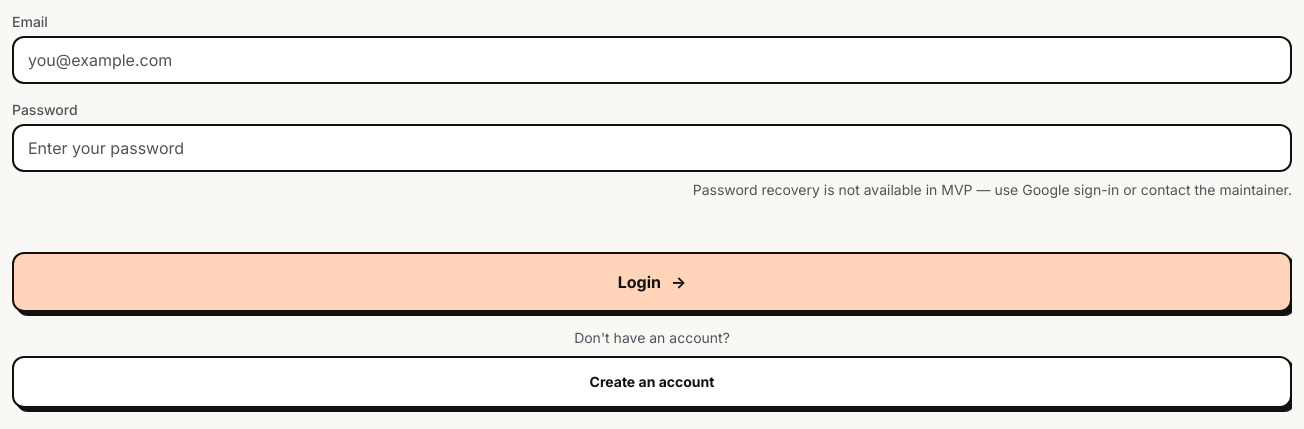
it: LoginForm › should show error message on login failure
The image size is (1304, 429).
Type "test@example.com" into the field labelled "Email".
click(652, 60); type("test@example.com")  # box x1=12 y1=36 x2=1292 y2=84
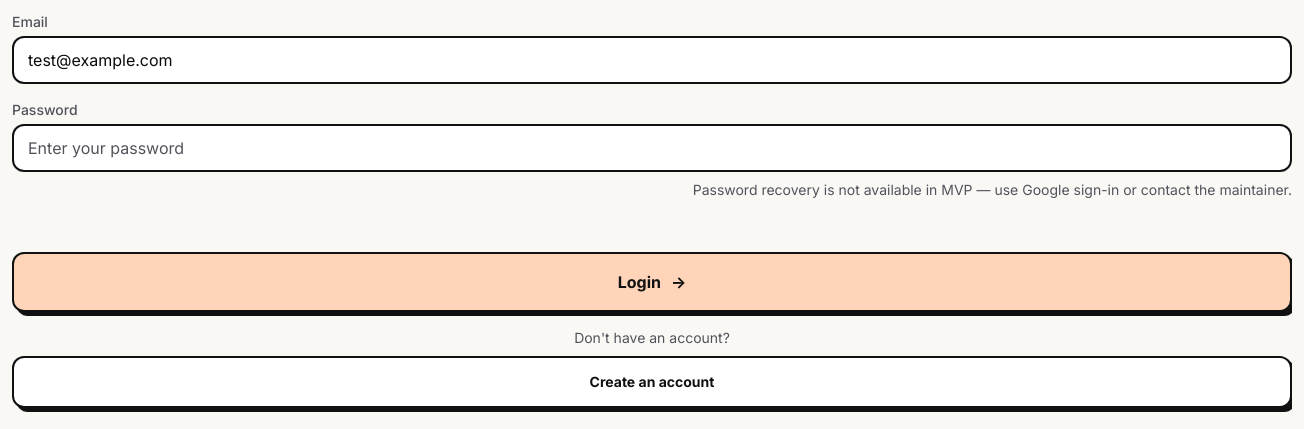
Type "wrong" into the password field labelled "Password".
click(652, 148); type("wrong")  # box x1=12 y1=124 x2=1292 y2=172
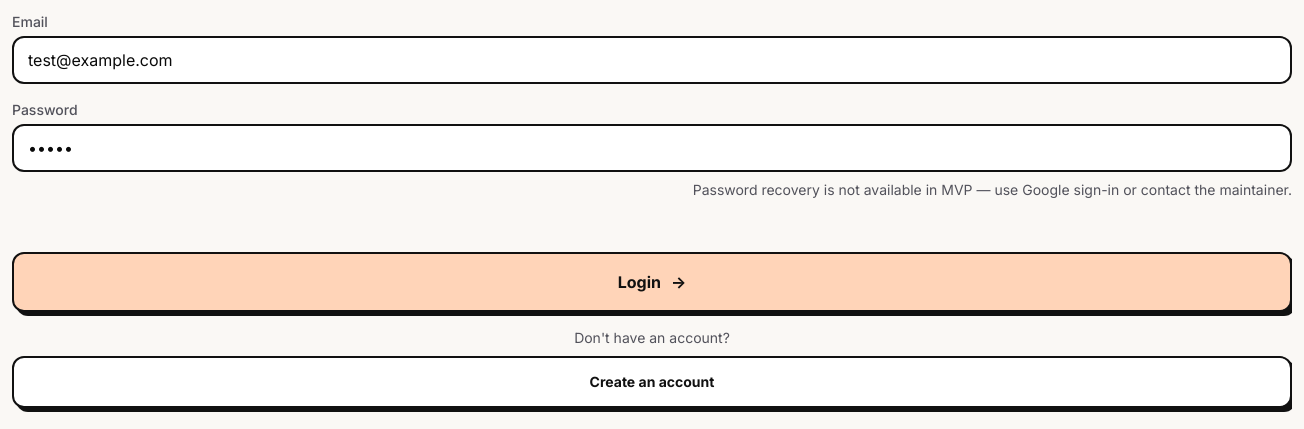
Click the button "Login →".
click(652, 282)  # box x1=12 y1=252 x2=1292 y2=312
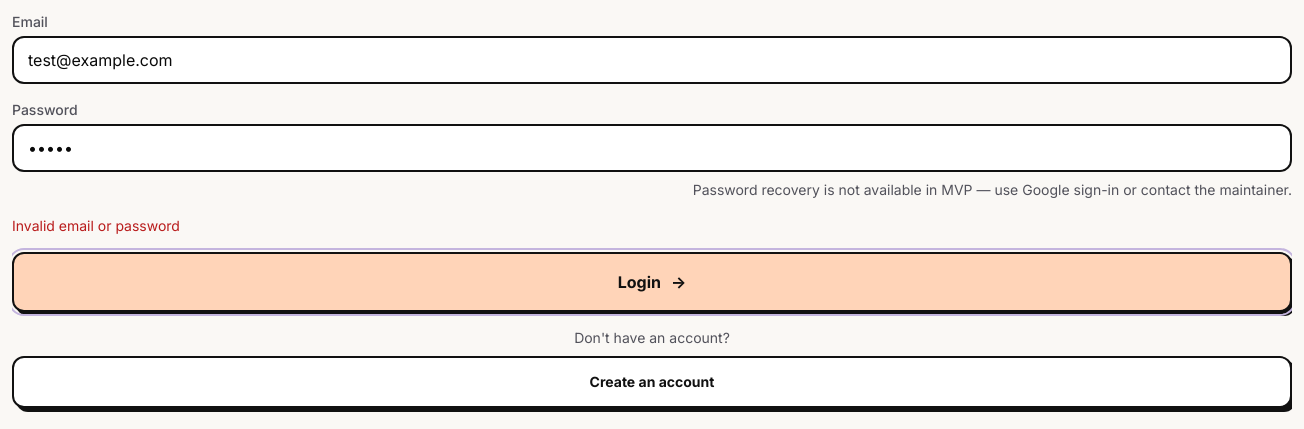
Now the text "Invalid email or password" is shown, box x1=12 y1=217 x2=180 y2=234
